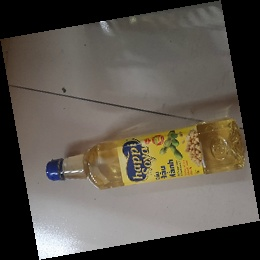Happy Soya: (46, 119, 246, 191)
